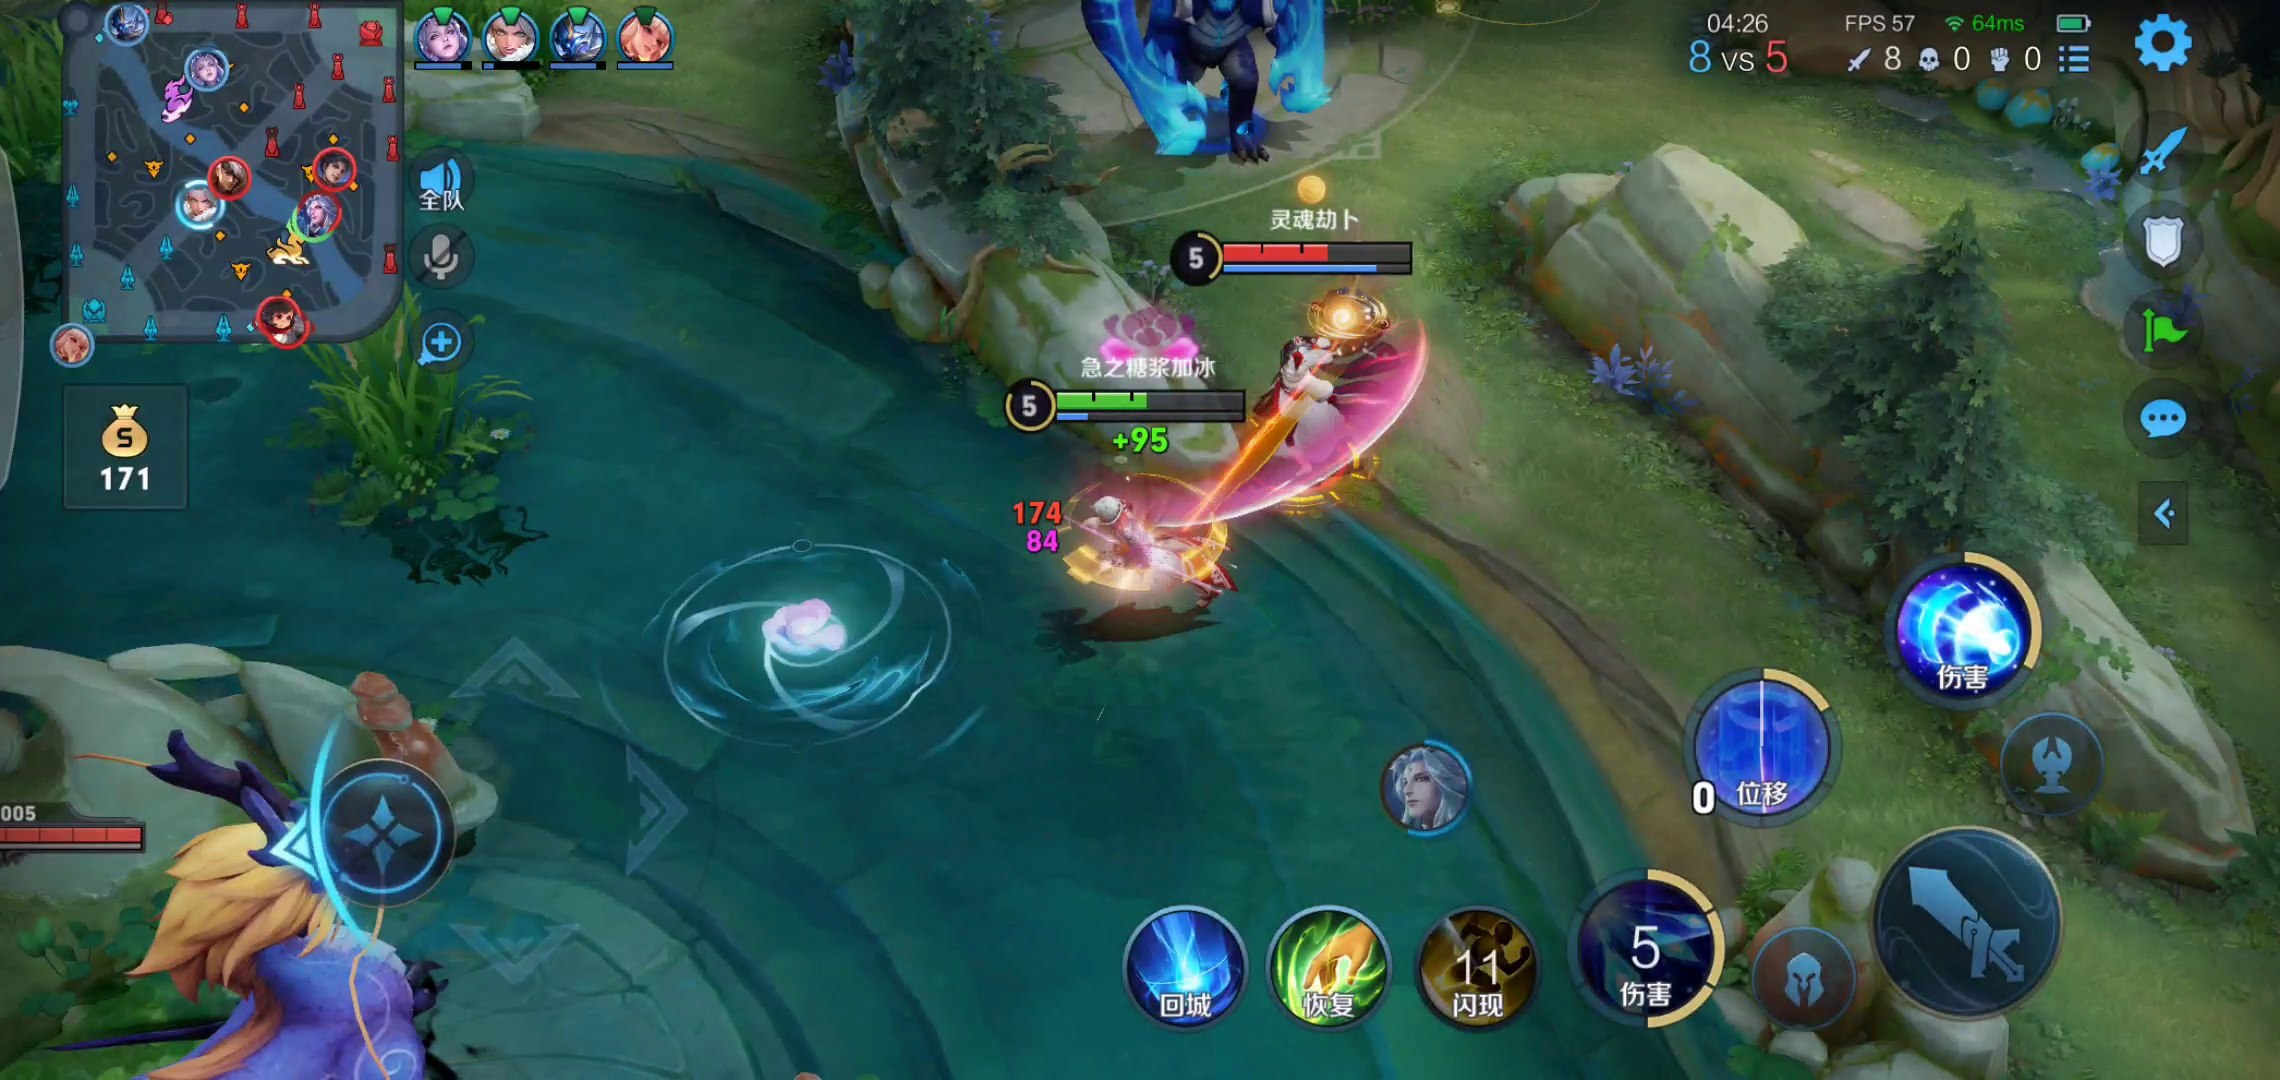buff: (1064, 1, 1336, 172)
dragon: (26, 725, 489, 1080)
grass: (286, 291, 505, 528), (1, 17, 70, 192)
hero: (1240, 307, 1421, 490), (1040, 475, 1239, 621)
